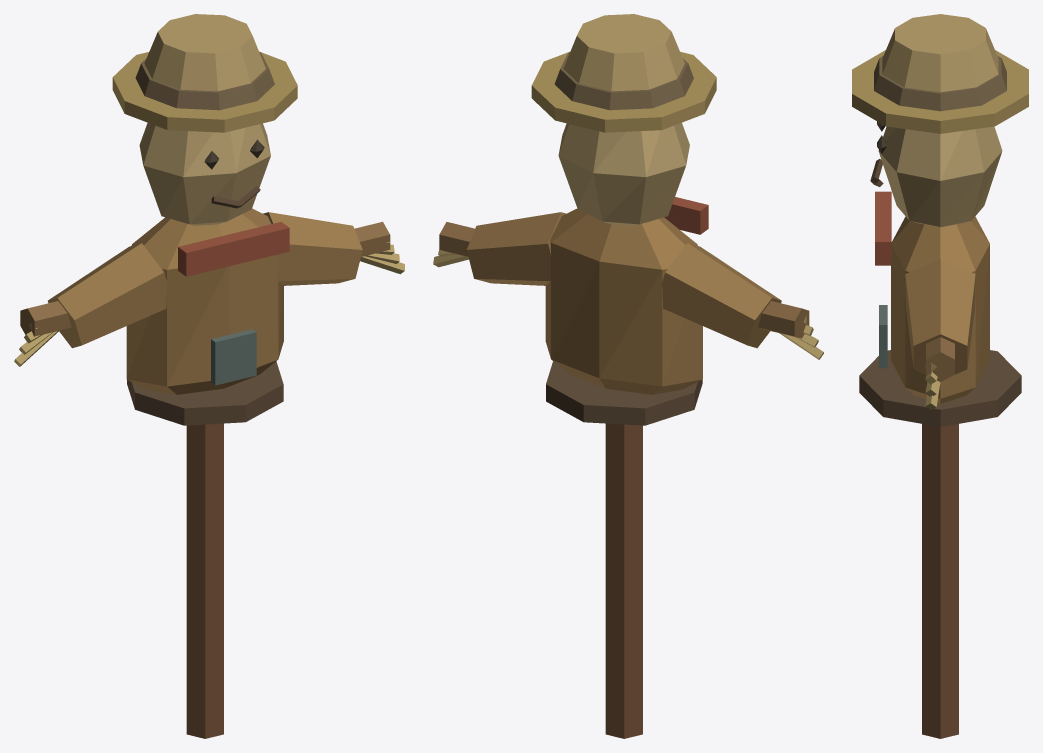
The model's file is scarecrow.glb.
3 renders of one model, left to right at view 1: azimuth 30°, elevation 25°; view 2: azimuth 150°, elevation 25°; view 3: azimuth 270°, elevation 25°, orthographic.
Parts seen in each view (by area): view 1: scarecrow; view 2: scarecrow; view 3: scarecrow.
Boxes of the visible parts, x1,y1,x2,y2 form: scarecrow: (14, 14, 404, 738); scarecrow: (433, 14, 823, 738); scarecrow: (852, 14, 1028, 738).
Bounding box in the file's own units: 0.943 × 1.61 × 0.3709.
